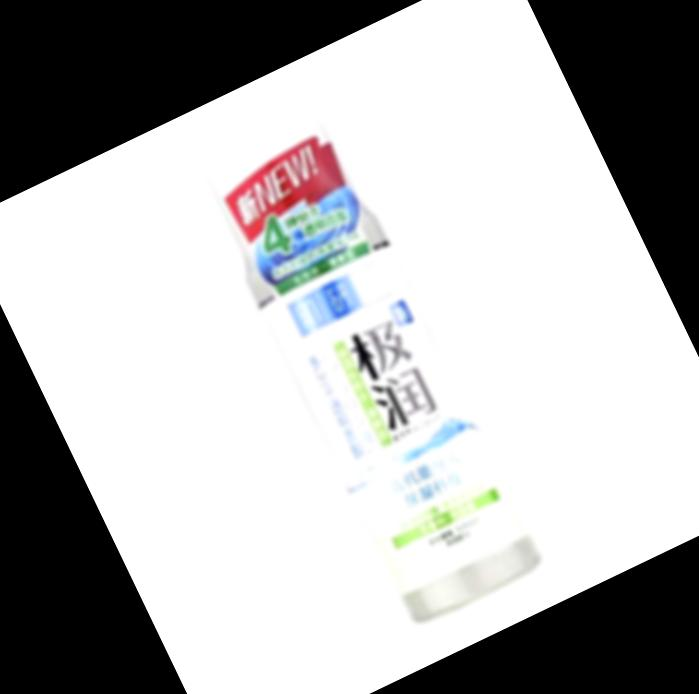cosmetic: (190, 105, 537, 621)
